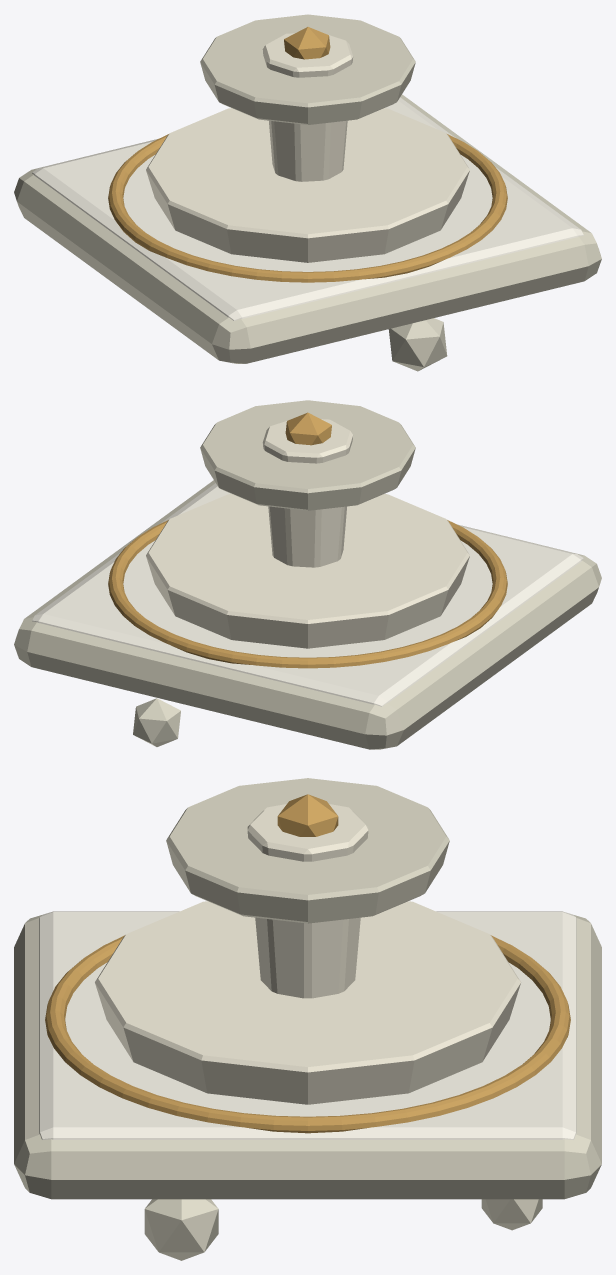
Rendered from island_generation.glb.
The picture shows the model from 3 angles, top to bottom: view 1: azimuth 30°, elevation 25°; view 2: azimuth 150°, elevation 25°; view 3: azimuth 270°, elevation 25°; orthographic projection. The views are drawn at different scales.
Parts seen in each view (by area): view 1: island_generation; view 2: island_generation; view 3: island_generation.
Boxes of the visible parts, x1,y1,x2,y2 form: island_generation: (14, 14, 601, 371); island_generation: (14, 400, 601, 749); island_generation: (14, 778, 601, 1260).
Size of the model in its own units: 2.04 by 1.63 by 2.04.
